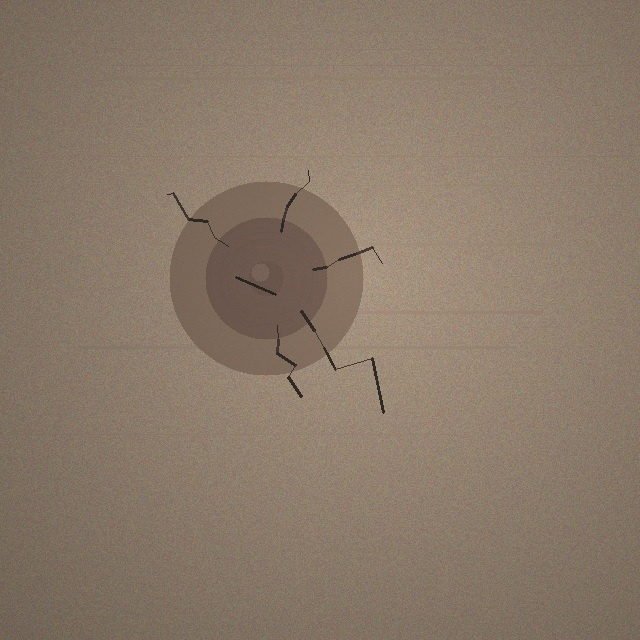crack: (169, 181, 363, 375)
